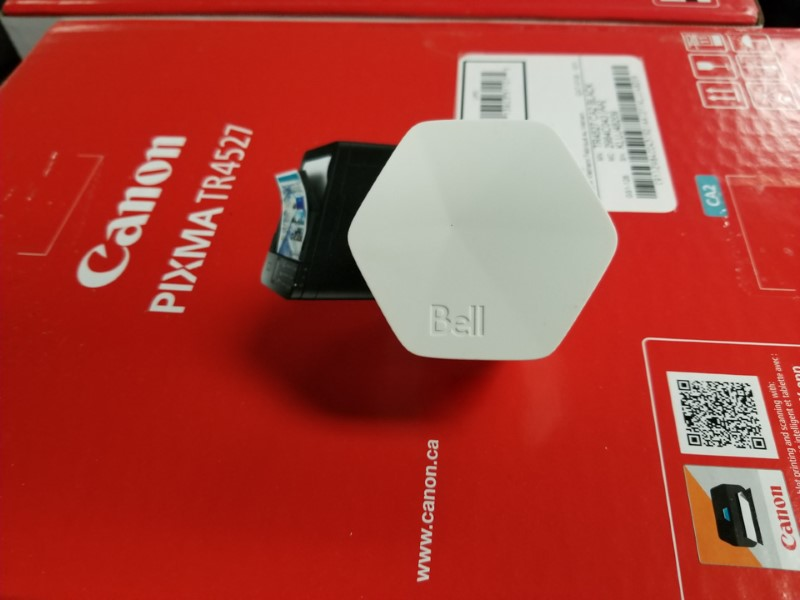pod: (344, 113, 632, 369)
